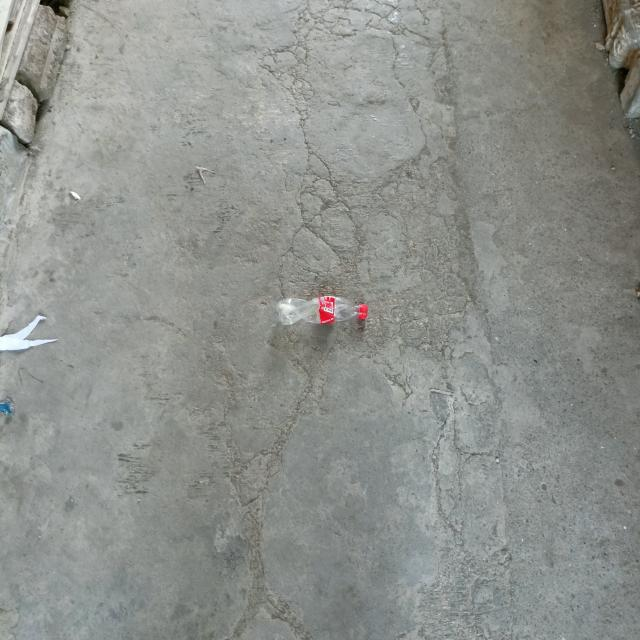Bottle: (276, 296, 369, 326)
